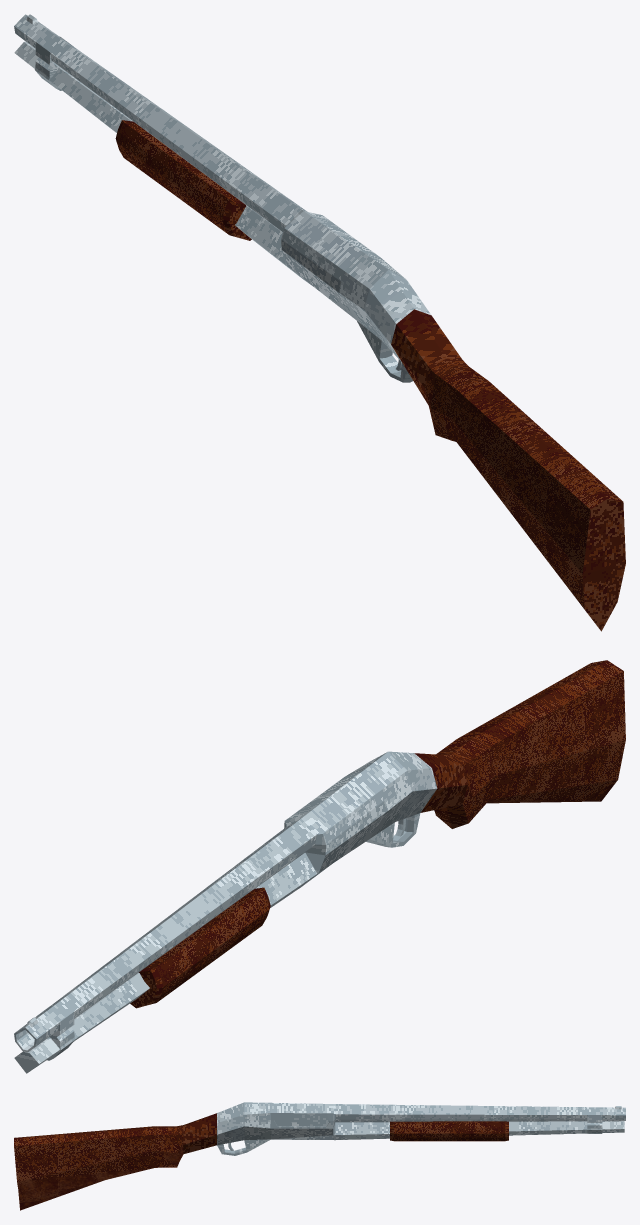
The model's file is Shotgun.glb.
3 views of the same model, one above another, from view 1: azimuth 30°, elevation 25°; view 2: azimuth 150°, elevation 25°; view 3: azimuth 270°, elevation 25° (orthographic). The views are drawn at different scales.
Parts seen in each view (by area): view 1: Shotgun, pump; view 2: Shotgun, pump; view 3: Shotgun, pump.
Part boxes in pixels (left/top/right/bottom): Shotgun: left=14, top=14, right=625, bottom=631; pump: left=115, top=120, right=251, bottom=240; Shotgun: left=14, top=660, right=625, bottom=1073; pump: left=130, top=887, right=270, bottom=1008; Shotgun: left=14, top=1102, right=625, bottom=1210; pump: left=390, top=1121, right=508, bottom=1141.
Bounding box in the file's own units: 0.3809 × 1.53 × 7.83.
4 materials, 4 textured.
